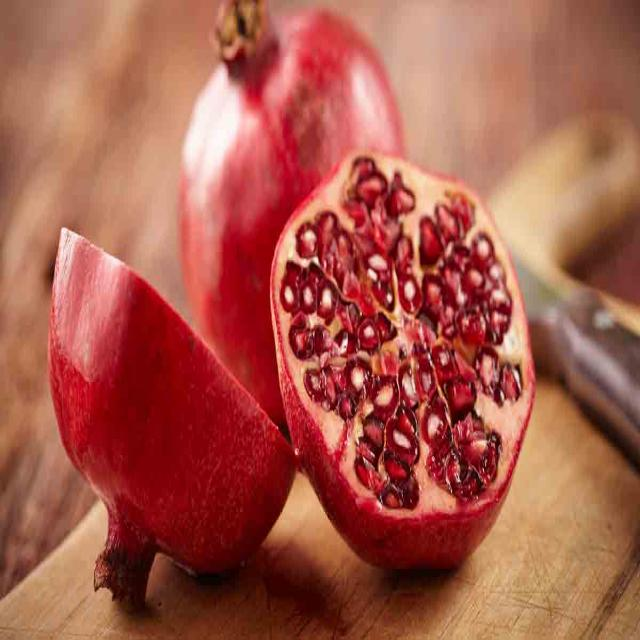apple: (54, 235, 294, 610), (180, 5, 402, 382)
